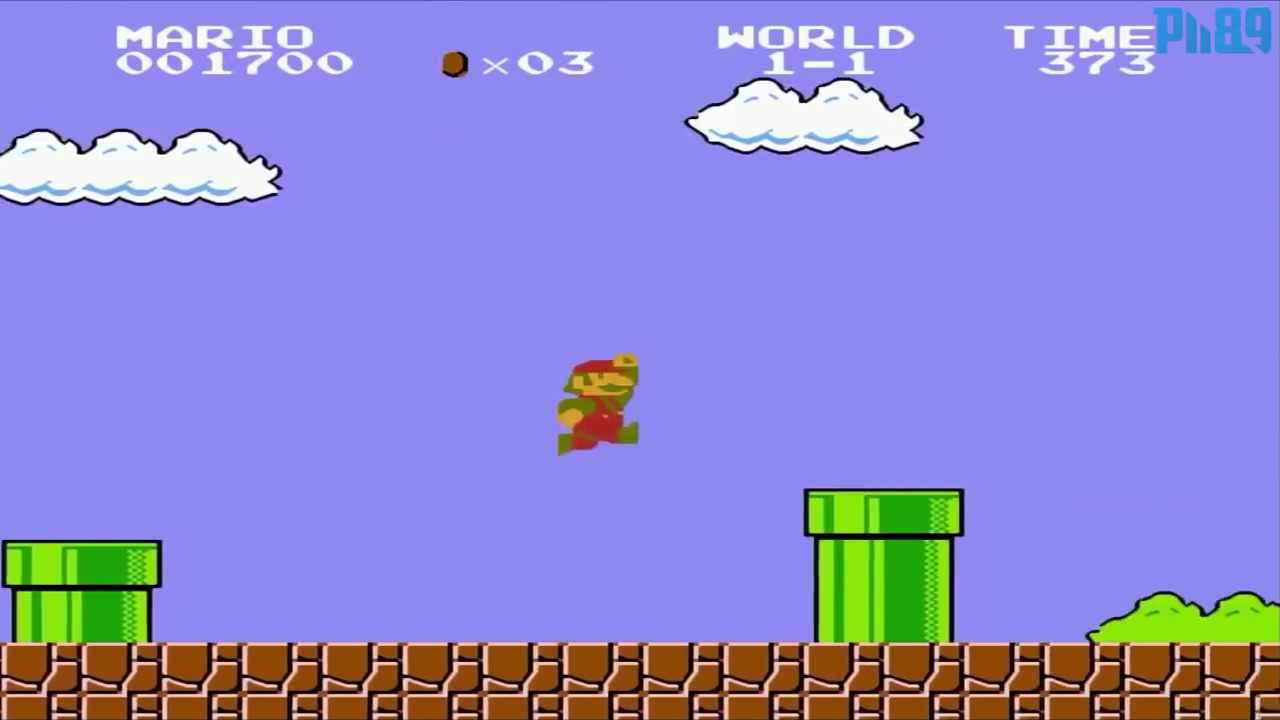mario: (552, 346, 647, 464)
